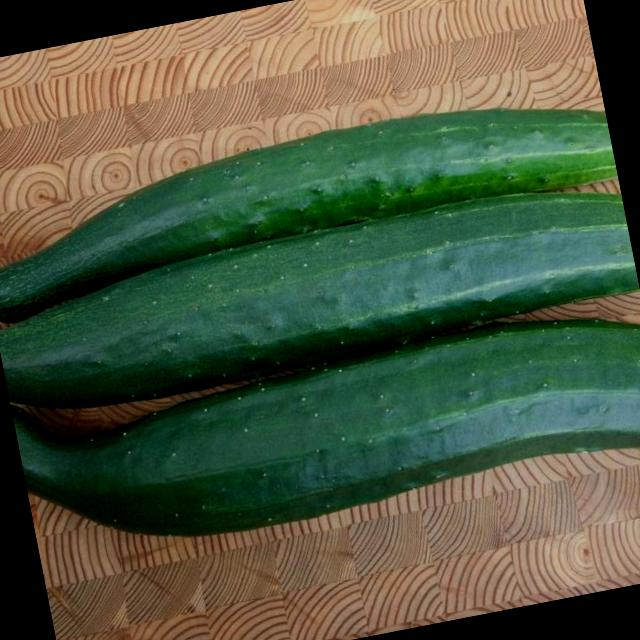Cucumber: (21, 299, 640, 566), (0, 170, 635, 420), (0, 77, 623, 324)
